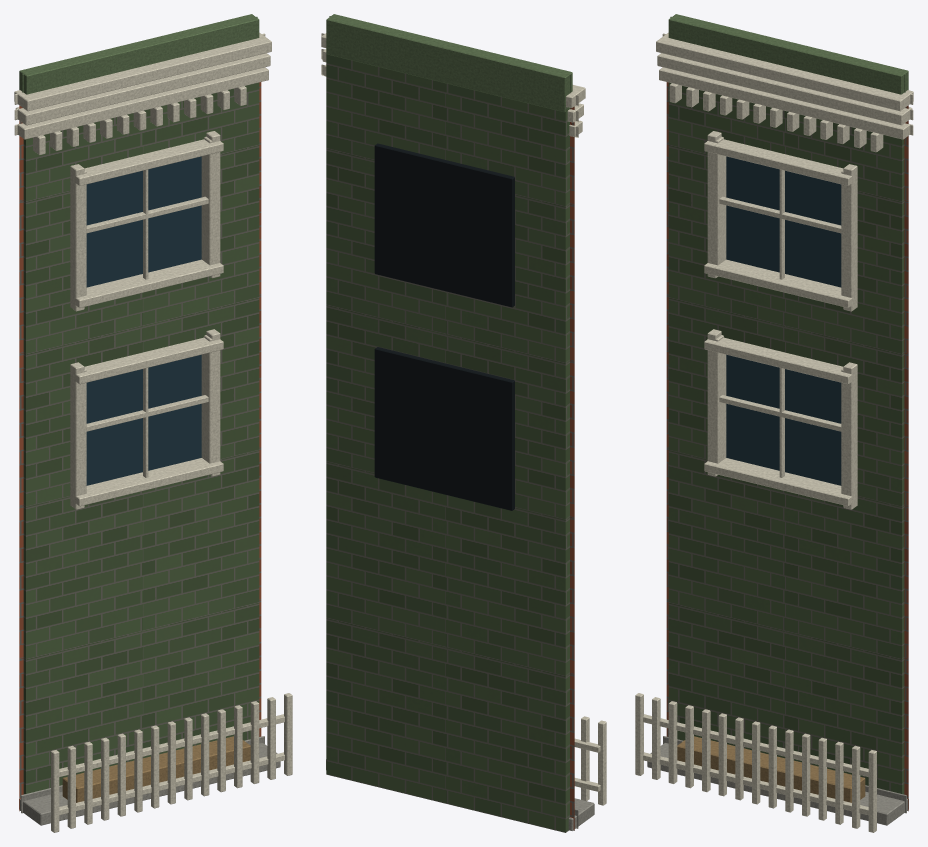
Rendered from VICT26_lod1.glb.
3 views of the same model, side by side, from view 1: azimuth 30°, elevation 25°; view 2: azimuth 150°, elevation 25°; view 3: azimuth 330°, elevation 25° (orthographic). The views are drawn at different scales.
Visible parts, largest first — view 1: VICT26_FRONT_LOD1; view 2: VICT26_FRONT_LOD1; view 3: VICT26_FRONT_LOD1.
Boxes of the visible parts, left/top/right/bottom form: VICT26_FRONT_LOD1: left=14, top=14, right=292, bottom=832; VICT26_FRONT_LOD1: left=321, top=14, right=606, bottom=832; VICT26_FRONT_LOD1: left=635, top=14, right=913, bottom=832.
Size of the model in its own units: 3.44 by 9.66 by 0.95.
9 materials, 7 textured.
